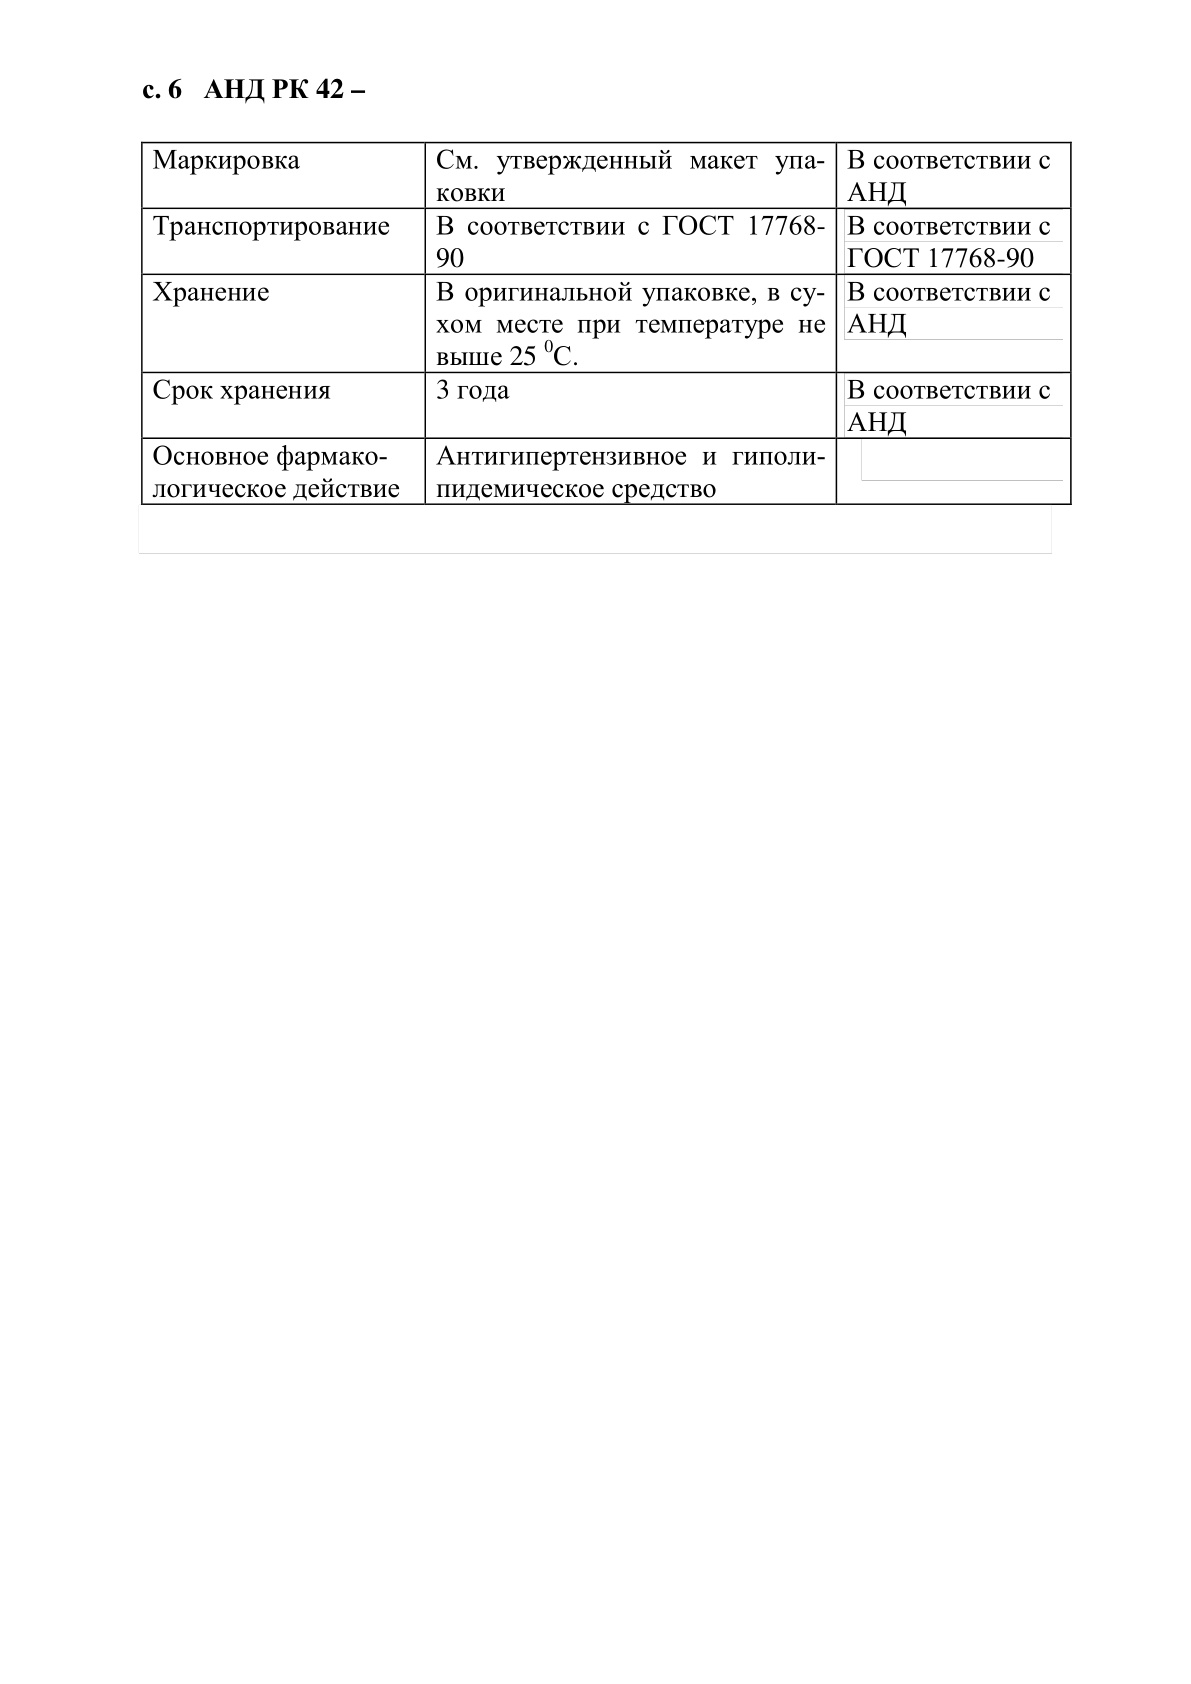full_lined: (140, 140, 1072, 506)
